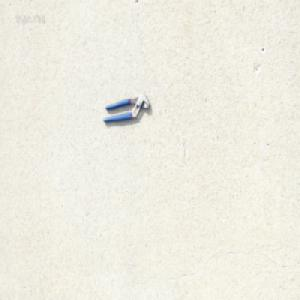Pliers: (102, 93, 151, 125)
